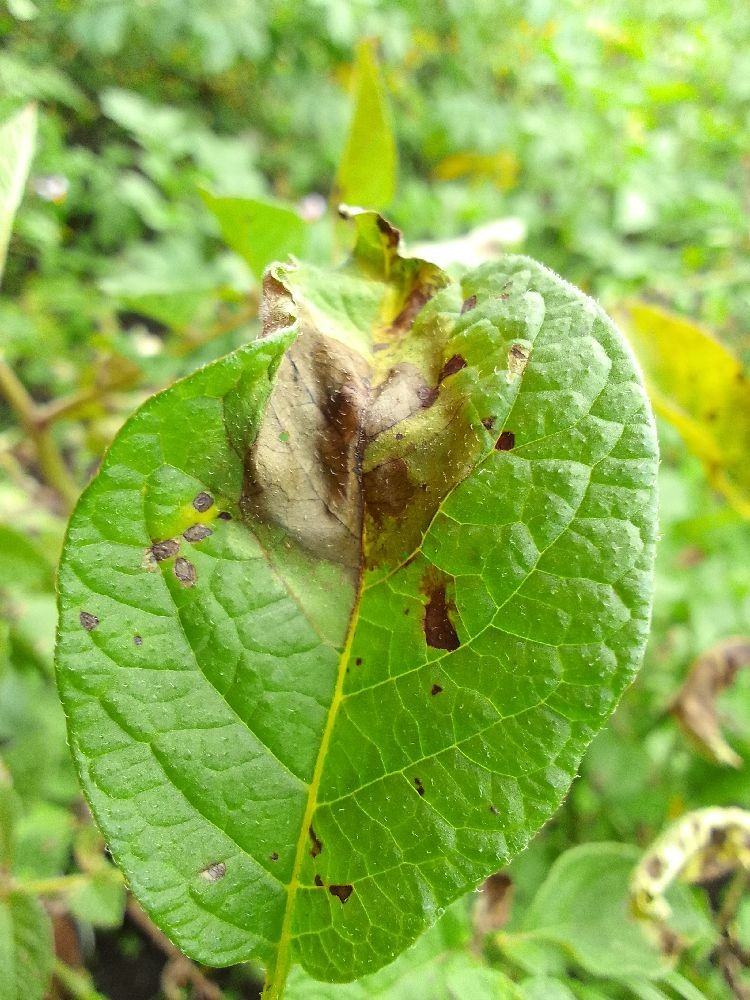late_blight: (131, 202, 531, 667), (15, 864, 291, 1000), (0, 339, 155, 536), (673, 804, 750, 1000)
